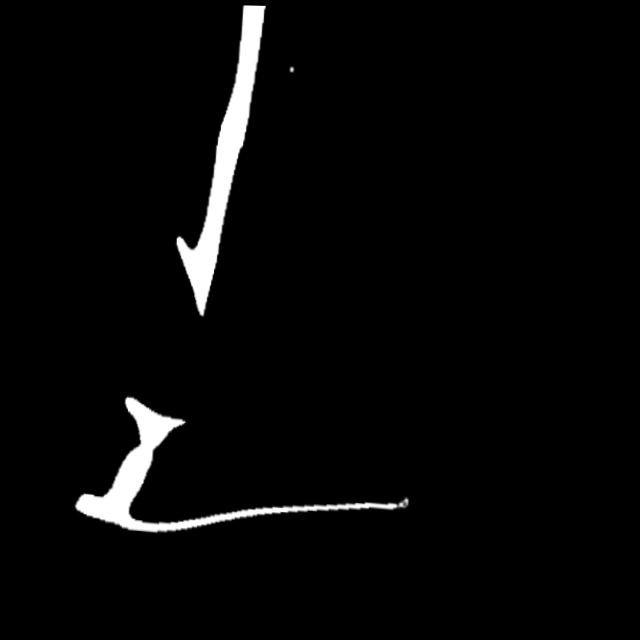stp: (386, 487, 410, 513)
